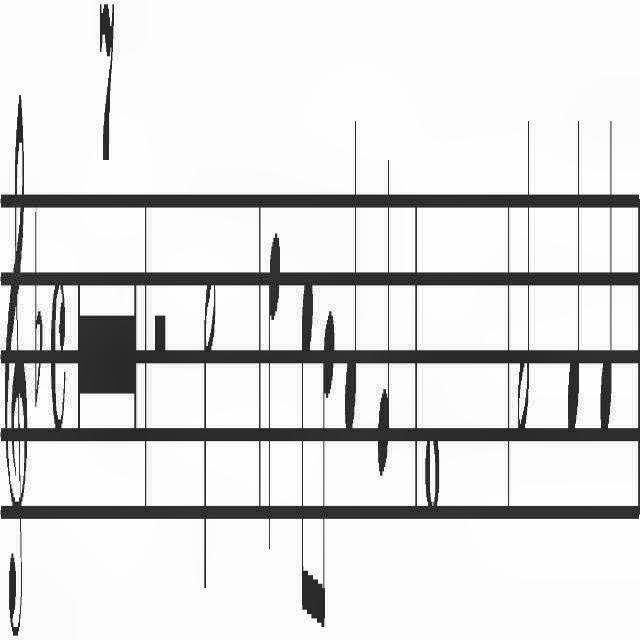Bass-clef: (1, 46, 29, 640)
Bemol: (31, 170, 45, 418)
Eighth-note: (318, 302, 337, 634), (299, 274, 315, 640)
Full-note: (424, 398, 442, 546)
Half-note: (202, 251, 218, 613), (516, 112, 532, 444)
Quarter-note: (374, 139, 394, 536), (596, 104, 616, 452), (342, 104, 362, 444), (566, 120, 582, 440), (268, 220, 280, 568)
